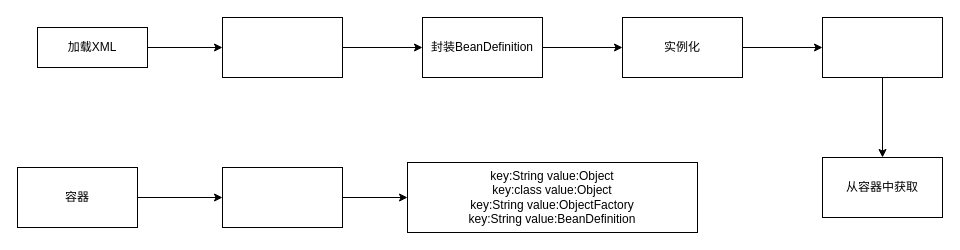
Image size: 960x250. Some labels were removed from this diagram. The box of each missing label's shape, as (x1, y1, x2, y2) in pixels:
MAP: (222, 166, 342, 228)
放到容器中中: (822, 16, 942, 78)
解析xml: (222, 16, 342, 78)
